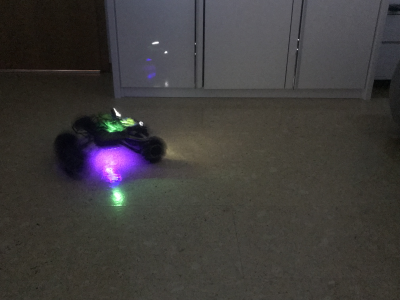remote control car: (54, 109, 168, 180)
